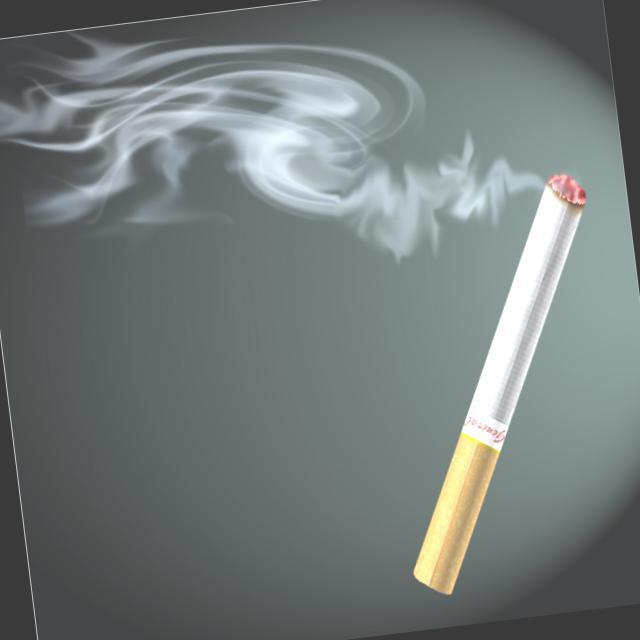cigarette: (351, 154, 640, 596)
